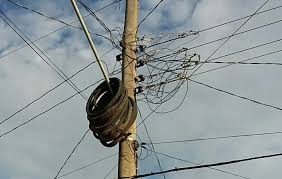tire: (84, 73, 134, 144)
